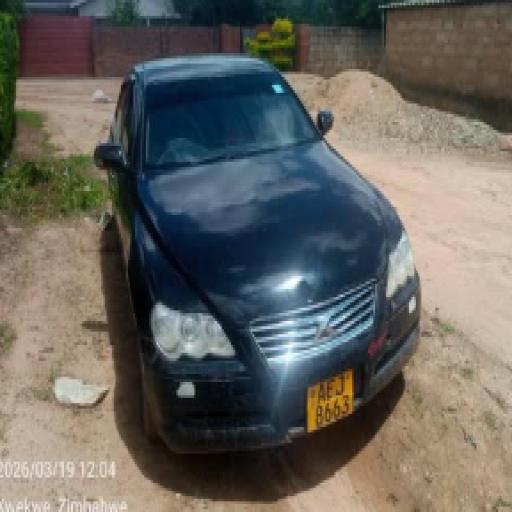number-plates: (310, 372, 358, 432)
